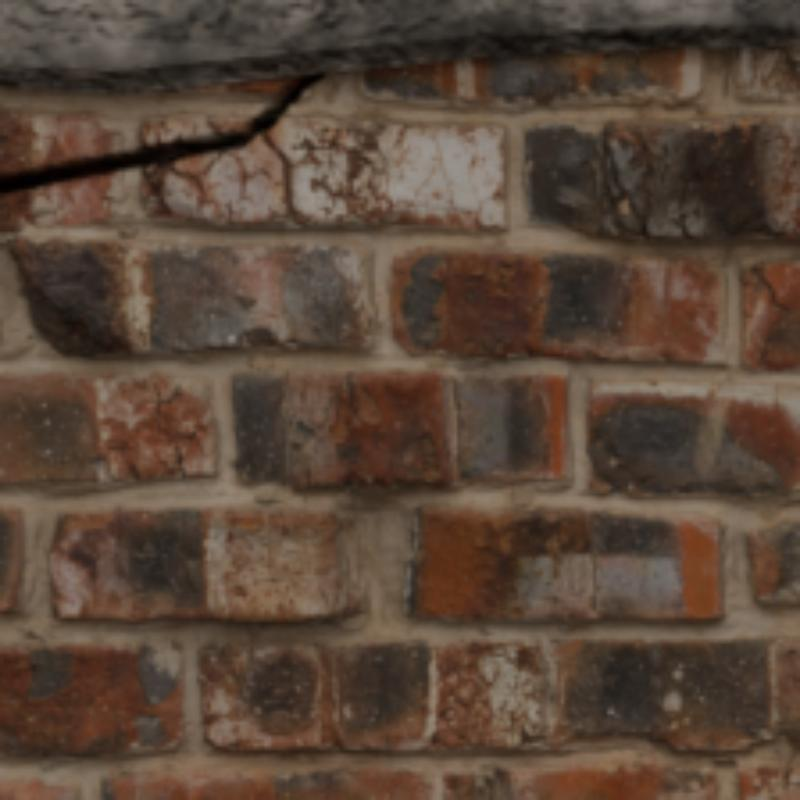pothole: (0, 71, 325, 196), (264, 136, 300, 218)
